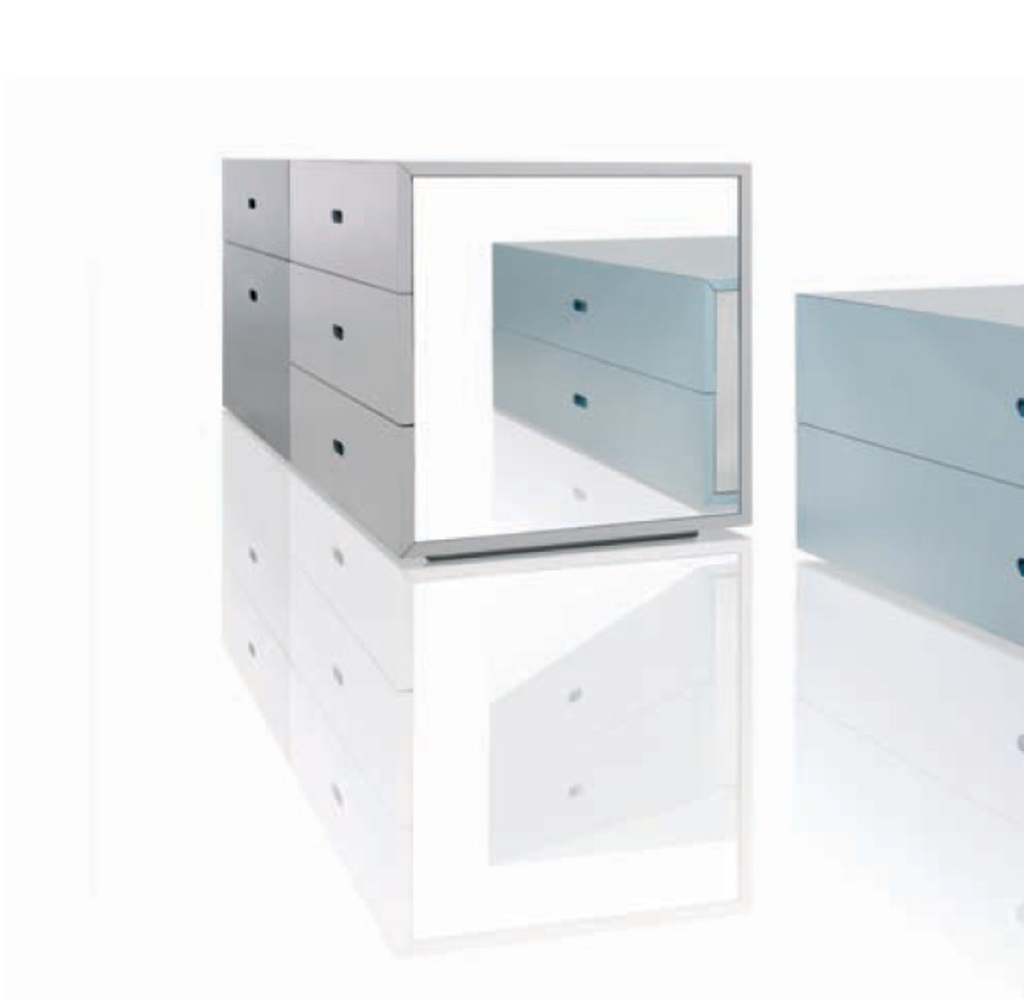cabinet door: (817, 450, 1024, 616), (824, 301, 1024, 454), (514, 354, 717, 443), (510, 259, 697, 340), (220, 239, 297, 422), (295, 265, 398, 382), (305, 384, 398, 504), (290, 164, 396, 264), (223, 165, 284, 229)
handle: (326, 196, 348, 237), (564, 287, 591, 318), (241, 282, 268, 312), (331, 427, 349, 461), (572, 386, 591, 415), (1011, 540, 1024, 581), (332, 318, 347, 350), (241, 196, 263, 215), (1014, 386, 1024, 426)
